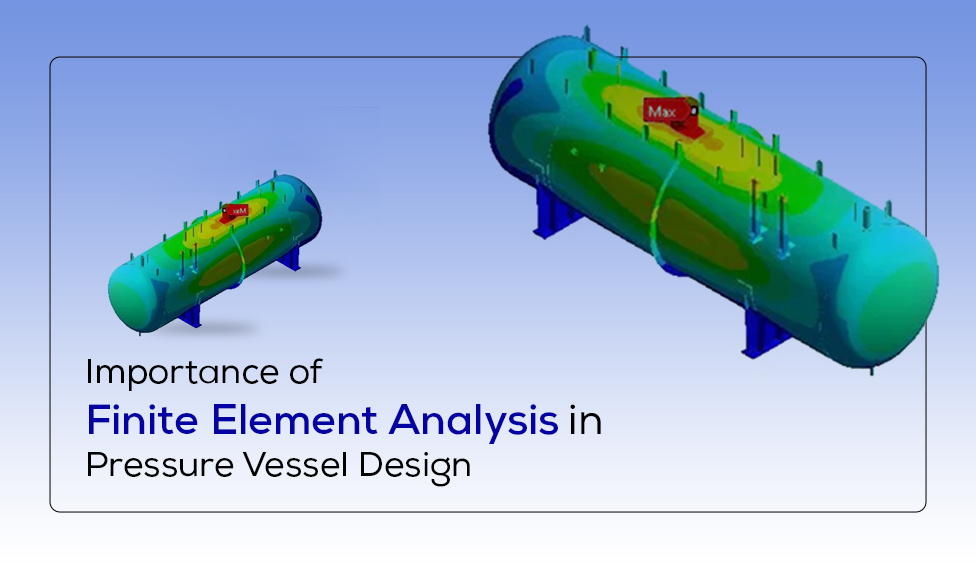nozzle: (662, 95, 715, 138), (211, 203, 253, 228)
